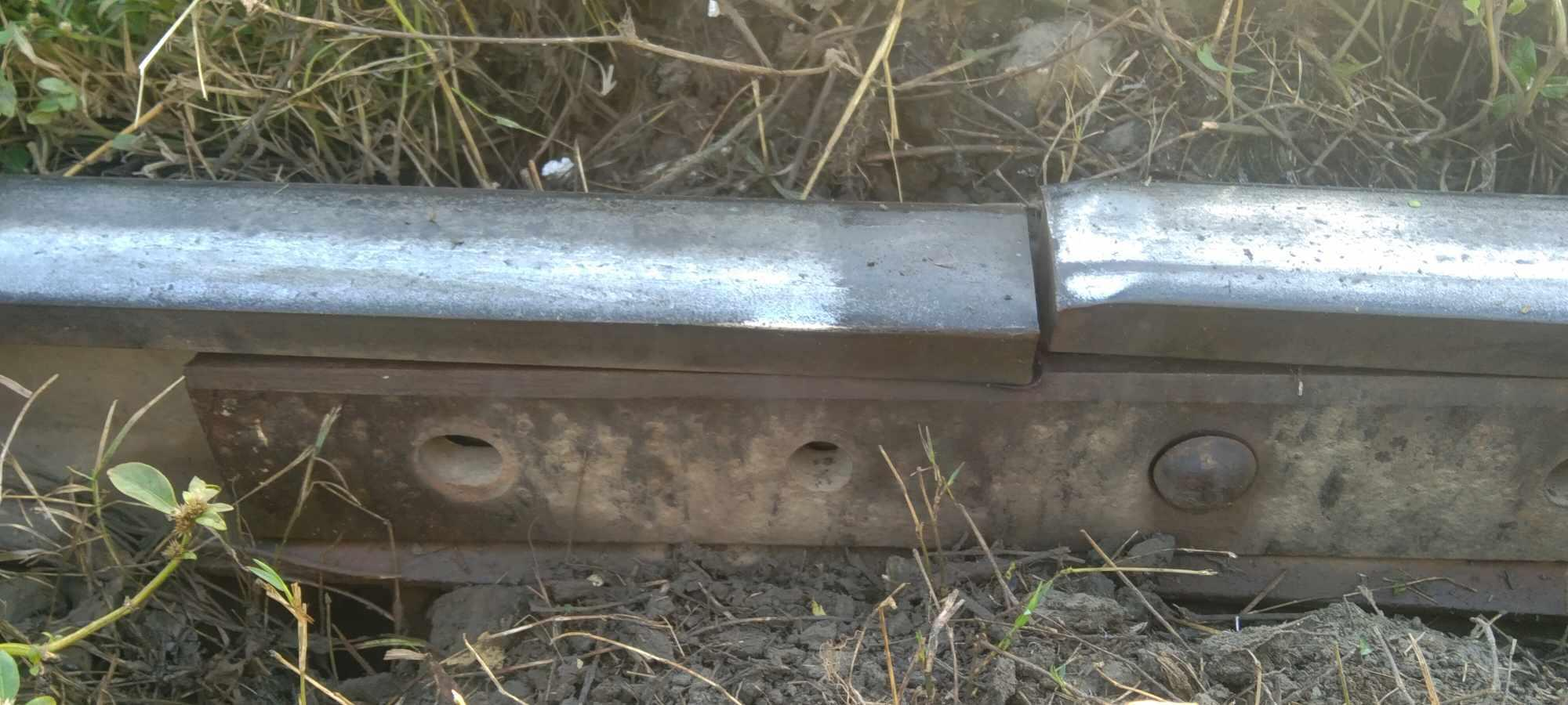railway-gap: (950, 168, 1195, 392)
